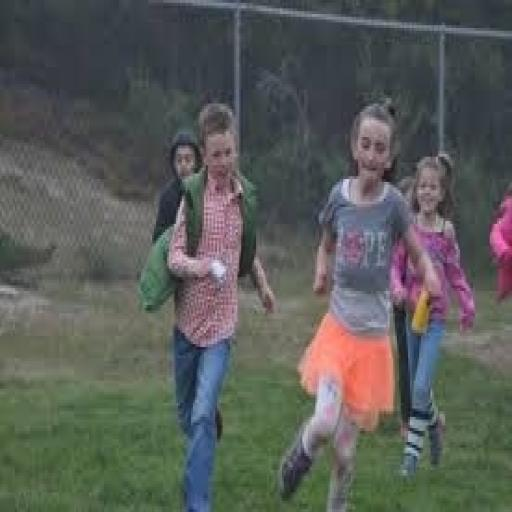running: (276, 98, 444, 509), (388, 148, 478, 484)
